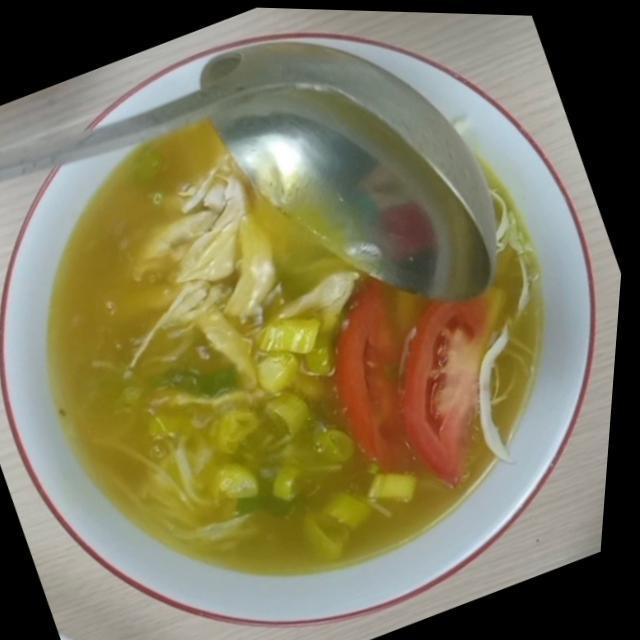Soto: (45, 145, 512, 566)
